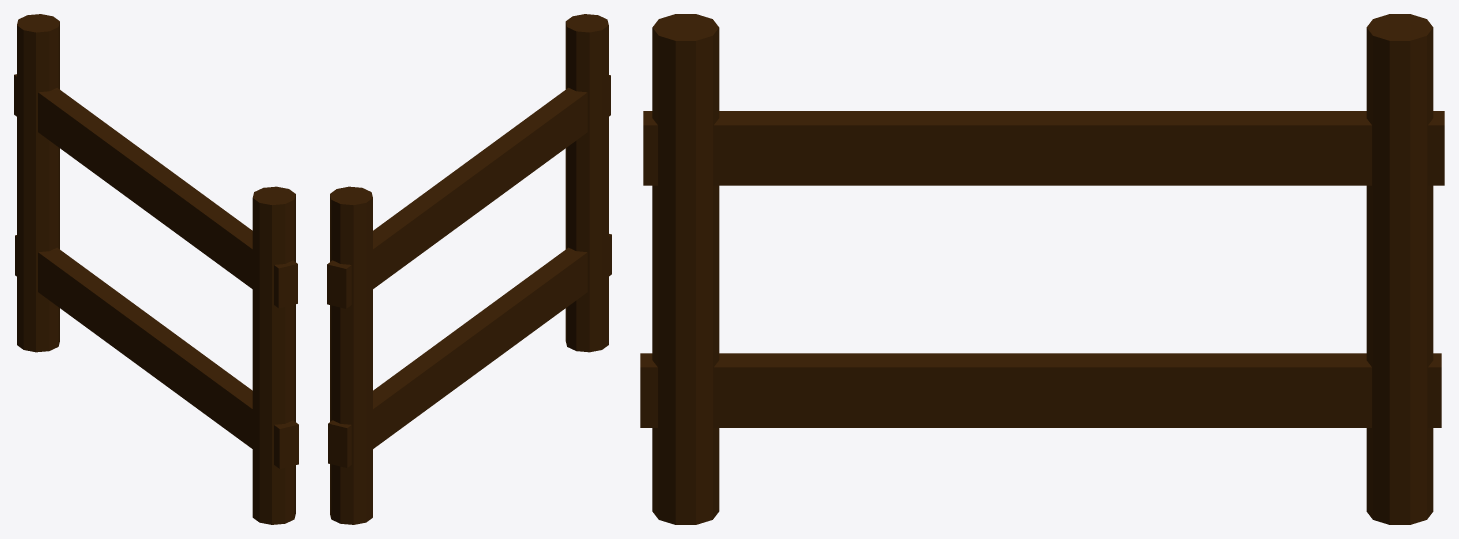
The model's file is Fence_Double_Post_v001.fbx.
The picture shows the model from 3 angles, left to right: view 1: azimuth 30°, elevation 25°; view 2: azimuth 150°, elevation 25°; view 3: azimuth 270°, elevation 25°; orthographic projection. The views are drawn at different scales.
Parts seen in each view (by area): view 1: Slat_2, Slat_1, Fence_Post, Fence_Post_2; view 2: Slat_1, Slat_2, Fence_Post_2, Fence_Post; view 3: Slat_1, Slat_2, Fence_Post, Fence_Post_2.
Boxes of the visible parts, box(x1,y1,x2,y2) form: Slat_2: box(15, 235, 298, 468); Slat_1: box(14, 74, 297, 308); Fence_Post: box(252, 186, 295, 524); Fence_Post_2: box(17, 14, 59, 352); Slat_1: box(327, 75, 610, 308); Slat_2: box(328, 234, 611, 467); Fence_Post_2: box(330, 186, 372, 524); Fence_Post: box(565, 14, 608, 352); Slat_1: box(643, 111, 1444, 185); Slat_2: box(640, 353, 1441, 427); Fence_Post: box(652, 14, 719, 524); Fence_Post_2: box(1366, 14, 1433, 524).
Size of the model in its own units: 47.55 by 400 by 602.
